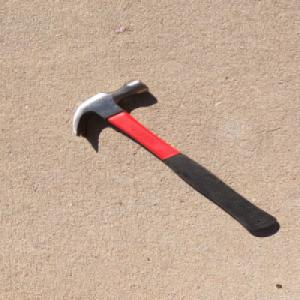Hammer: (68, 77, 281, 232)
